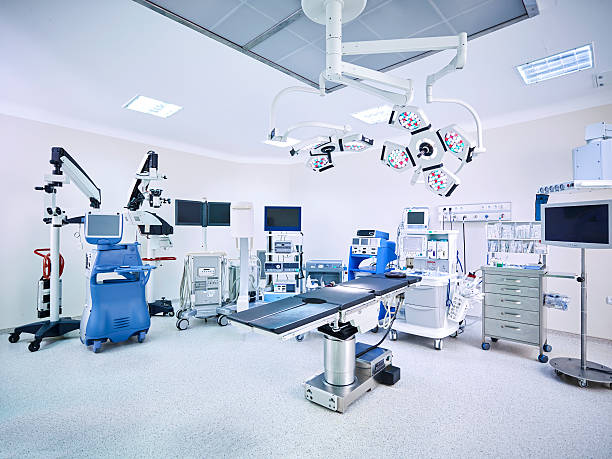bedside_monitor: (541, 198, 612, 250), (81, 208, 132, 247), (172, 199, 234, 228), (261, 205, 303, 234), (402, 240, 424, 257), (407, 213, 423, 225)
handle: (499, 313, 522, 319), (498, 324, 521, 330), (499, 299, 522, 305), (499, 288, 522, 294), (499, 276, 522, 282)
medical_drawer: (482, 267, 548, 359), (404, 286, 440, 329)
operating_bed: (228, 271, 422, 414)
surgical_light: (382, 104, 477, 201), (269, 124, 376, 172)
ventilator: (390, 228, 460, 331)
